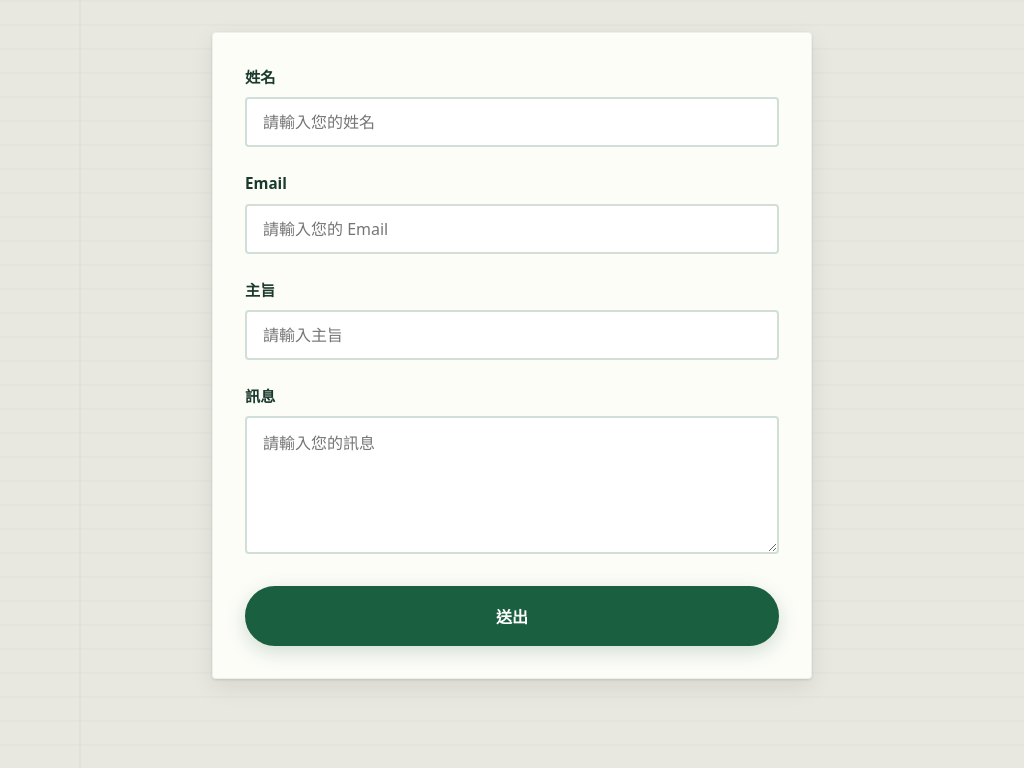
Test: ContactForm › should show success message on successful submission
The width and height of the screenshot is (1024, 768).
Type "John" into the field with id "name" at (512, 122), box [245,97,779,147]
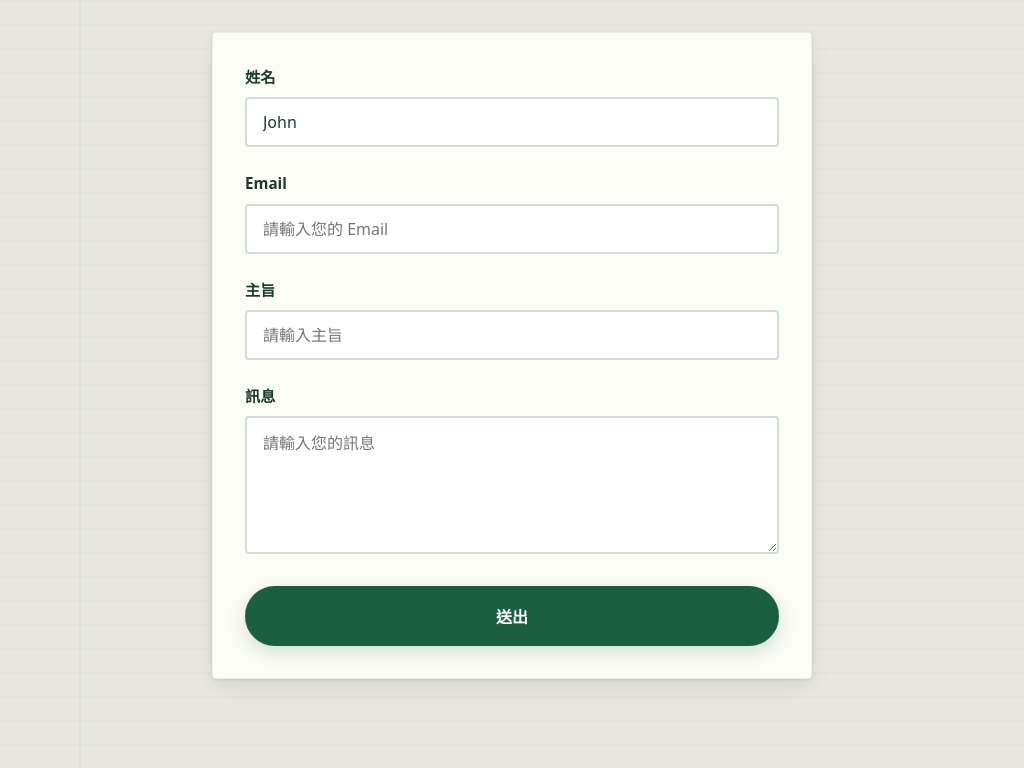
Type "john@example.com" into the field with id "email" at (512, 229), box [245,204,779,254]
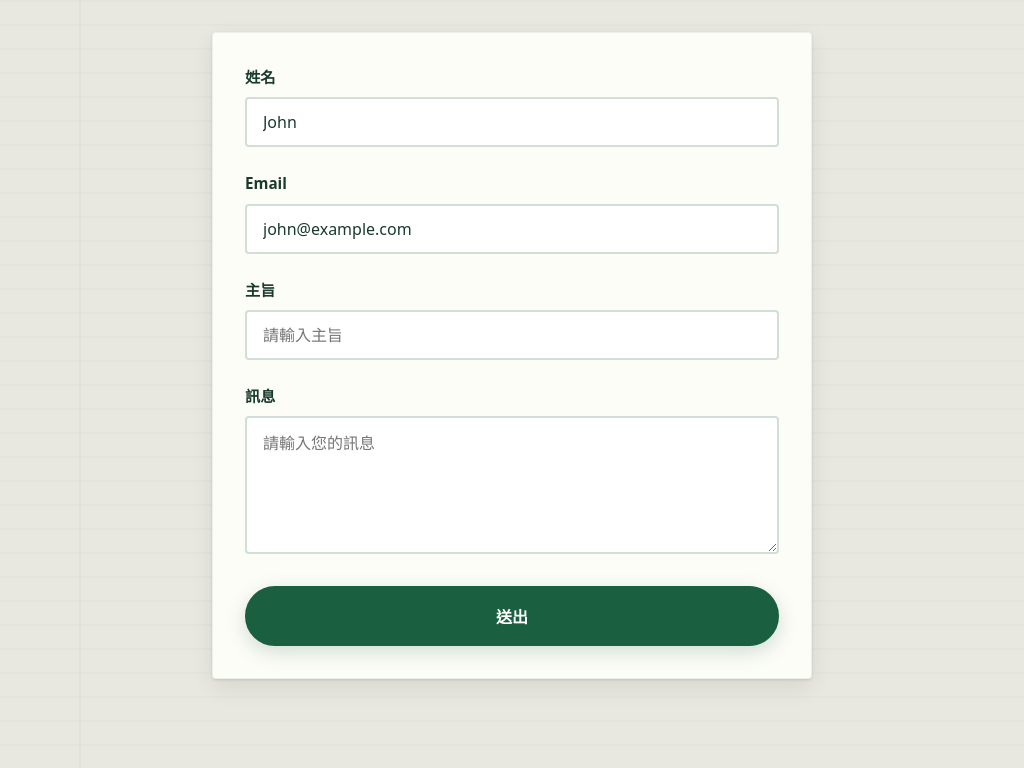
Type "Test" into the field with id "subject" at (512, 335), box [245,310,779,360]
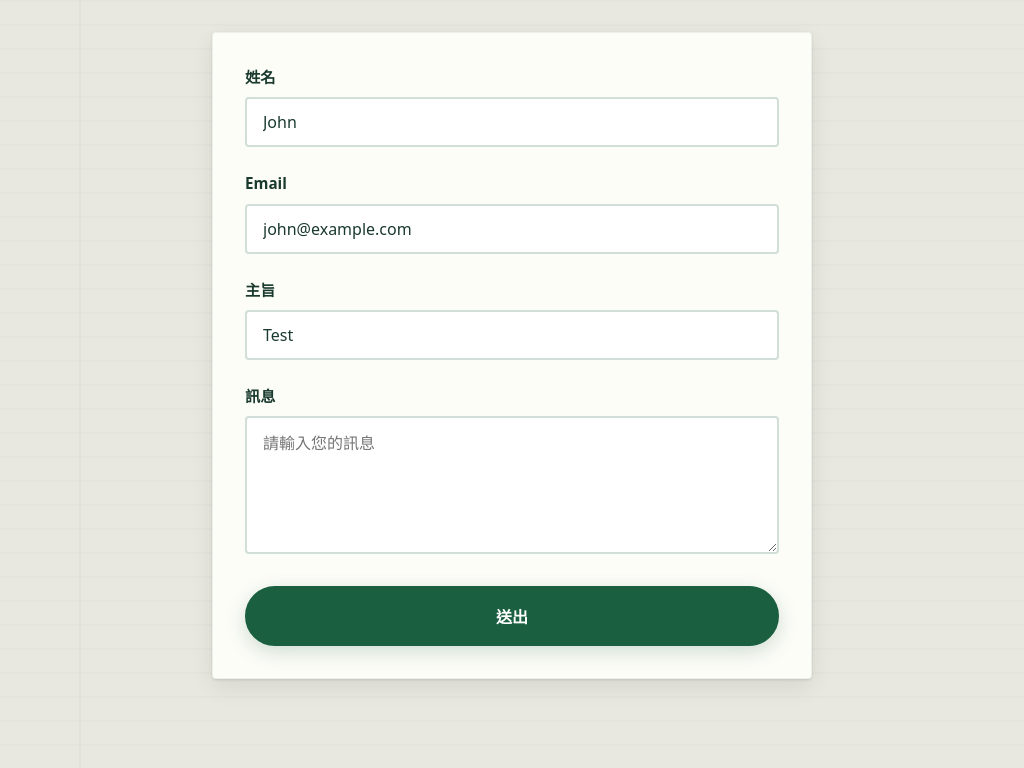
Type "Message" into the text box with id "message" at (512, 485), box [245,416,779,554]
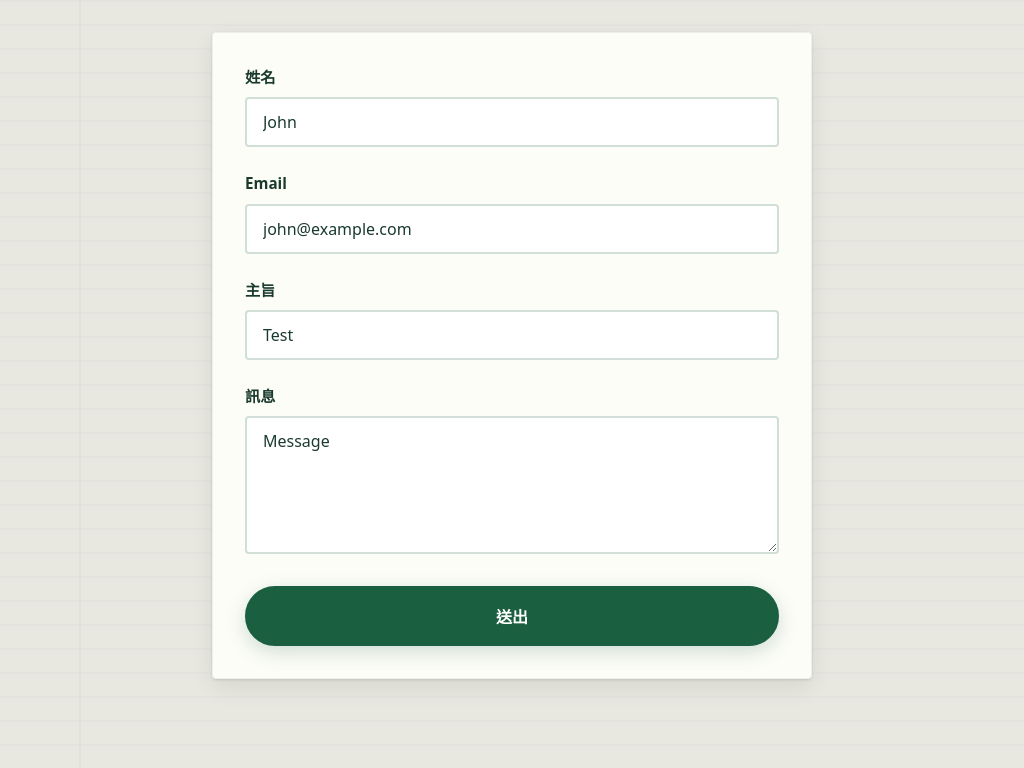
Submit the form, box [212,32,812,679]
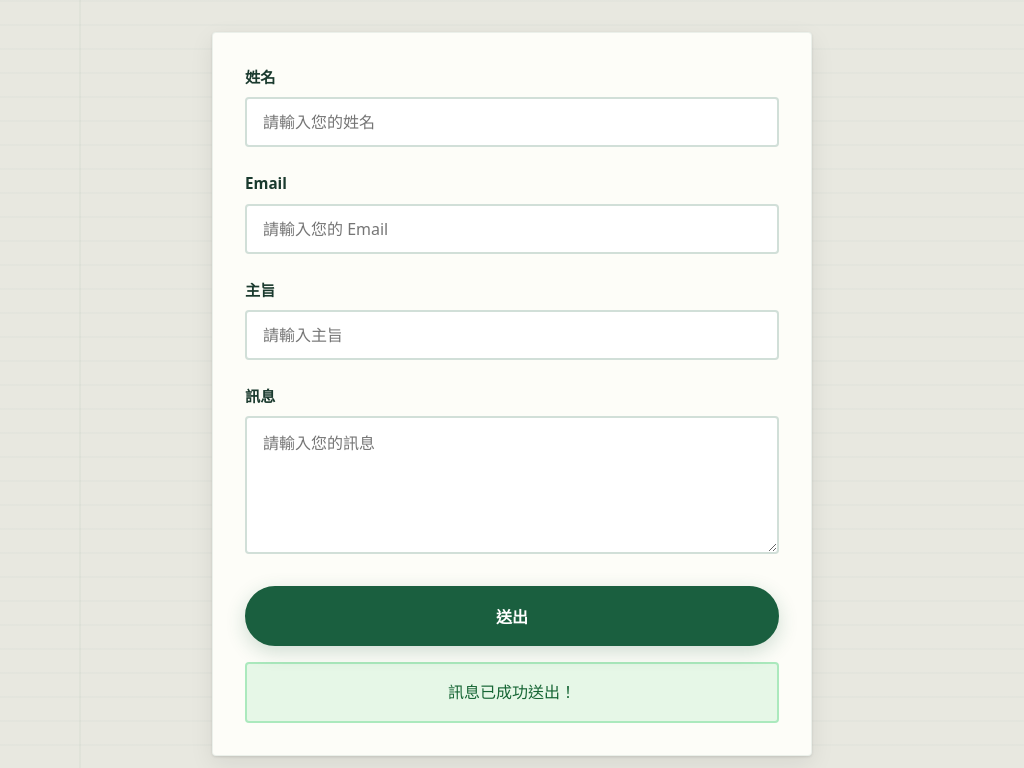
Expected: the text "訊息已成功送出！" is shown, [245,662,779,723]
